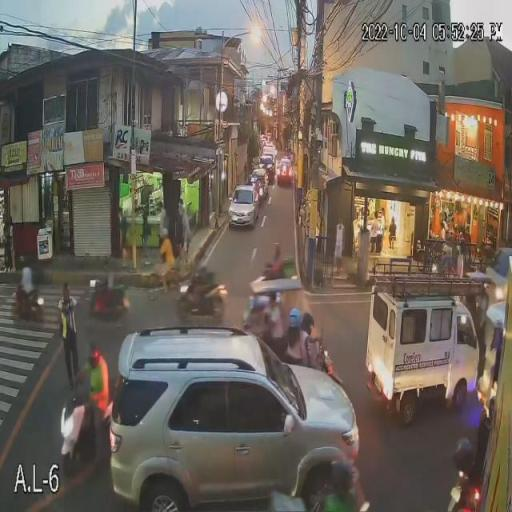helmet: (317, 450, 360, 494), (82, 343, 103, 369), (301, 312, 318, 335), (99, 255, 114, 271), (268, 242, 282, 257), (290, 310, 301, 326), (16, 254, 28, 268), (191, 256, 203, 270)
motorcycle: (58, 392, 112, 468), (172, 281, 227, 318), (88, 278, 130, 323), (10, 294, 48, 328)
rider: (82, 344, 108, 460), (322, 458, 368, 512), (190, 259, 216, 320), (96, 255, 120, 320), (17, 255, 36, 317), (264, 240, 286, 278), (290, 306, 304, 362), (307, 312, 318, 369)
